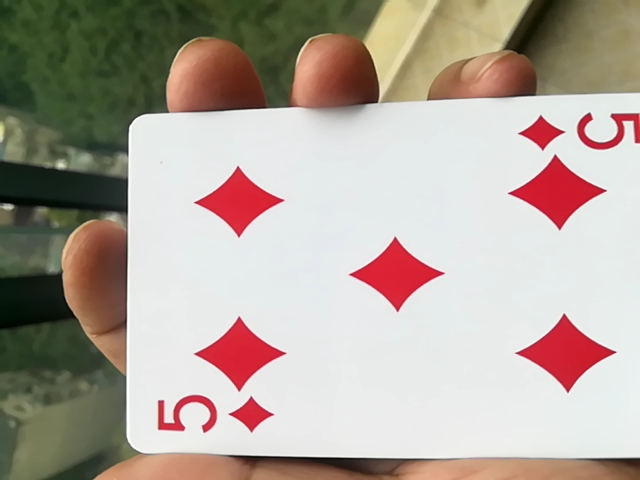fk 5: (114, 98, 636, 471)
